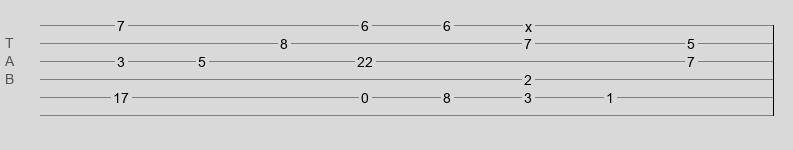0: (361, 90, 369, 100)
1: (606, 90, 614, 100)
17: (113, 90, 129, 100)
2: (524, 72, 532, 82)
22: (357, 54, 373, 64)
3: (117, 54, 125, 64), (524, 90, 532, 100)
5: (198, 54, 206, 64), (687, 36, 695, 46)
6: (361, 18, 369, 28), (443, 18, 451, 28)
7: (117, 18, 125, 28), (524, 36, 532, 46), (687, 54, 695, 64)
8: (280, 36, 288, 46), (443, 90, 451, 100)
x: (525, 19, 532, 27)
